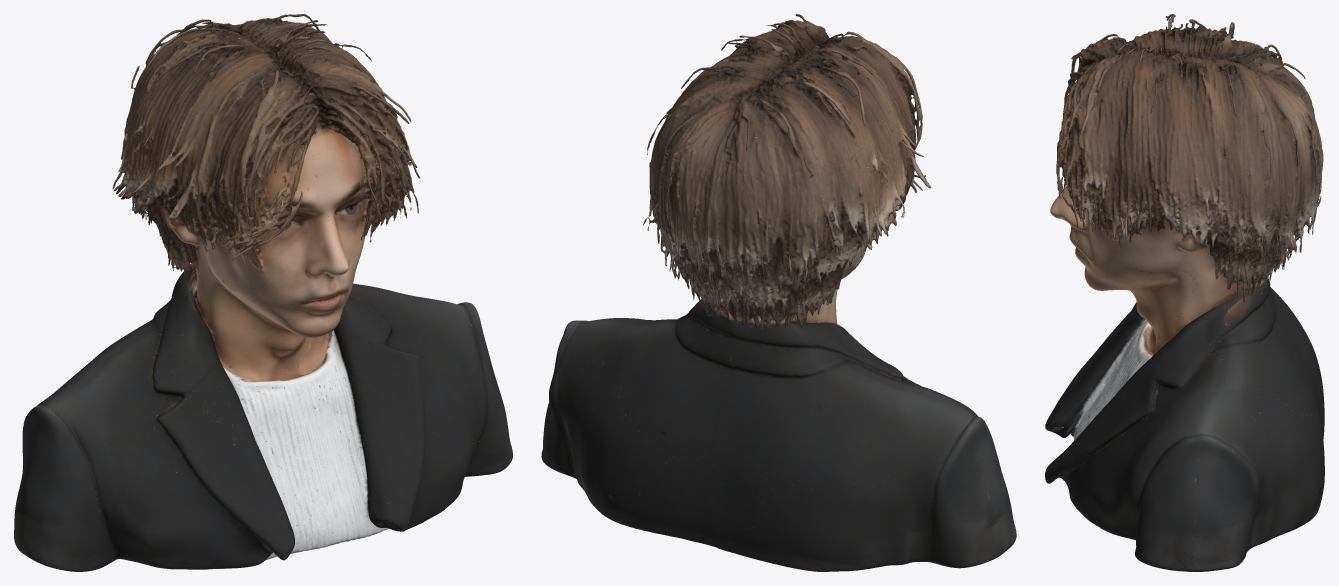
3 renders of one model, left to right at view 1: azimuth 30°, elevation 25°; view 2: azimuth 150°, elevation 25°; view 3: azimuth 270°, elevation 25°, orthographic. The views are drawn at different scales.
Size of the model in its own units: 2 by 1.91 by 1.12.
Materials: 1 (1 with a texture image).
